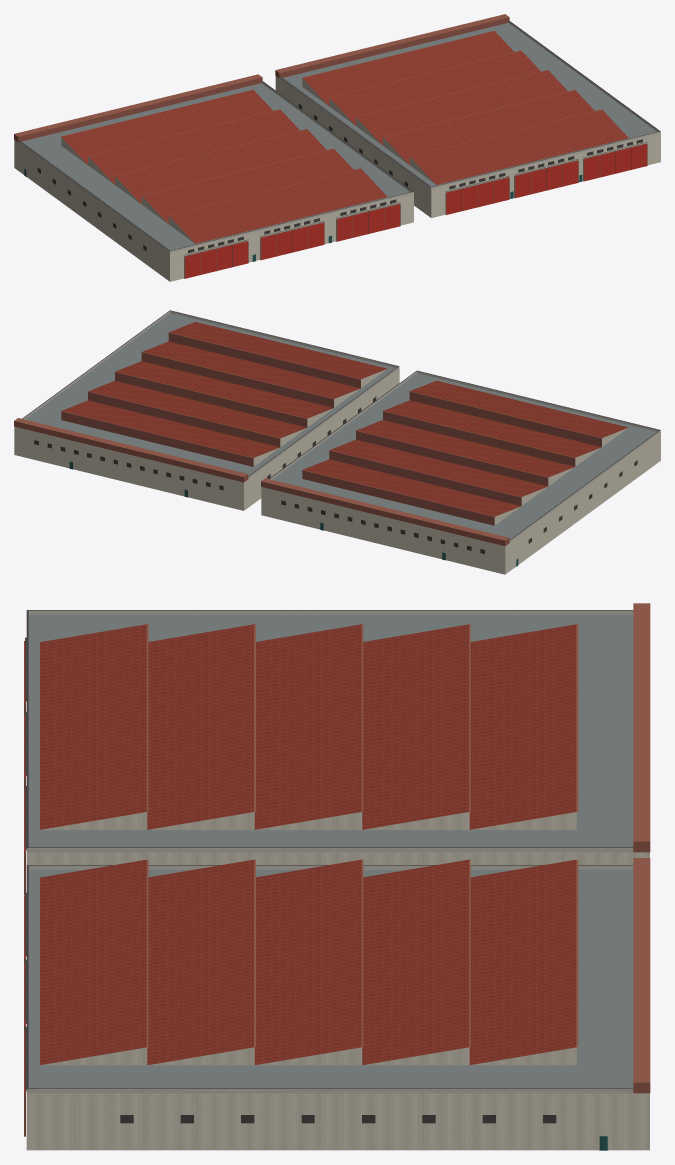
The model's file is cyxd_north_main_lod2.gltf.
3 views of the same model, one above another, from view 1: azimuth 30°, elevation 25°; view 2: azimuth 150°, elevation 25°; view 3: azimuth 270°, elevation 25° (orthographic). The views are drawn at different scales.
Visible parts, largest first — view 1: cyxd_north_main; view 2: cyxd_north_main; view 3: cyxd_north_main.
Part boxes in pixels (x1,y1,x2,y2): cyxd_north_main: (14,14,660,281); cyxd_north_main: (14,310,660,574); cyxd_north_main: (24,603,650,1150).
Bounding box in the file's own units: 171 × 12.5 × 94.58.
